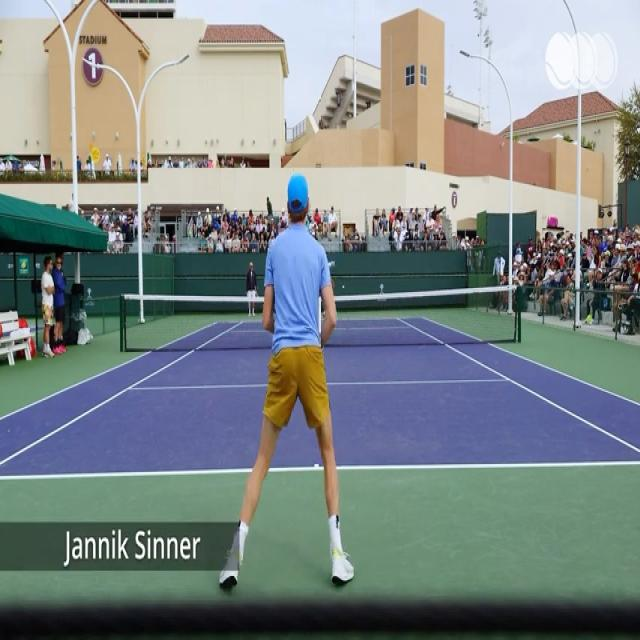ready-position: (221, 171, 353, 589)
